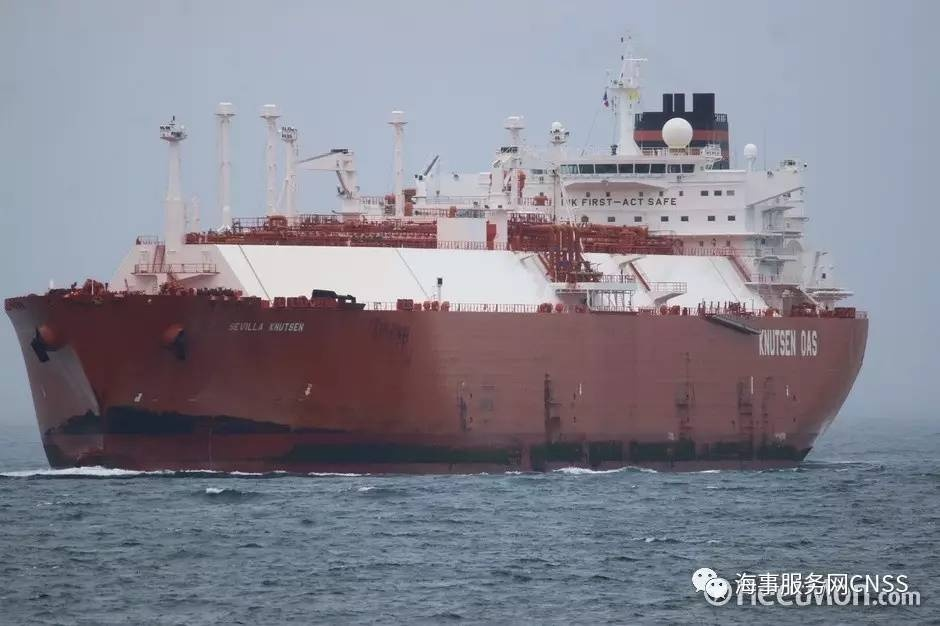Cargoship: (1, 40, 873, 479)
